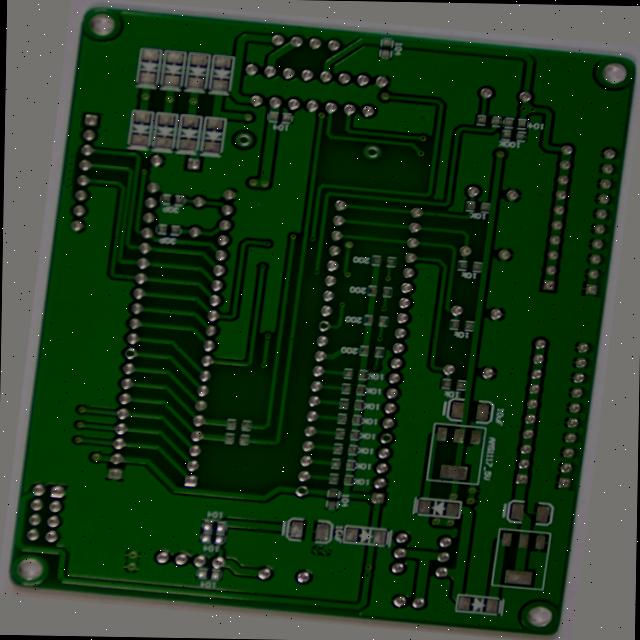missing_hole: (345, 130, 365, 146), (314, 318, 334, 334), (104, 361, 121, 379), (395, 433, 415, 447), (310, 495, 328, 510), (203, 128, 222, 142)
